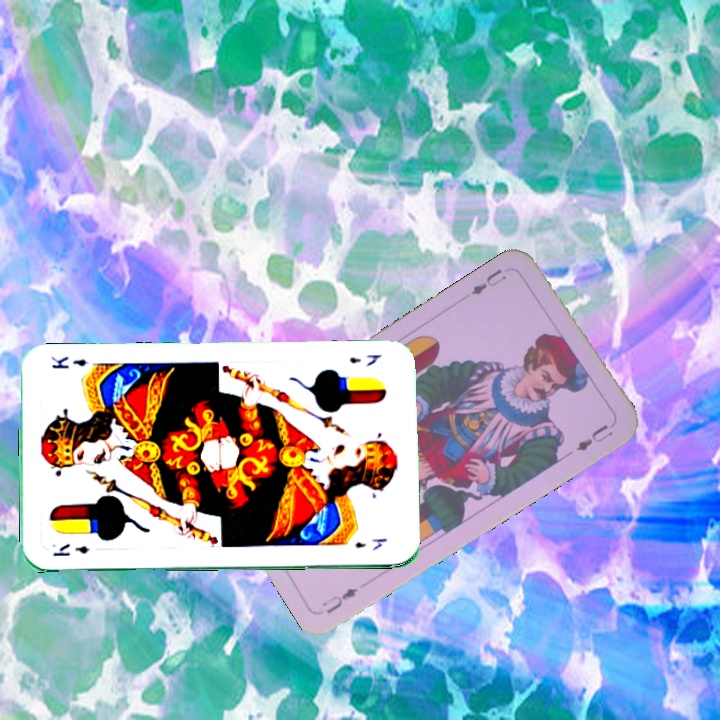EK: (49, 539, 92, 559), (345, 351, 384, 369)
EU: (467, 264, 509, 298), (318, 584, 361, 617)
